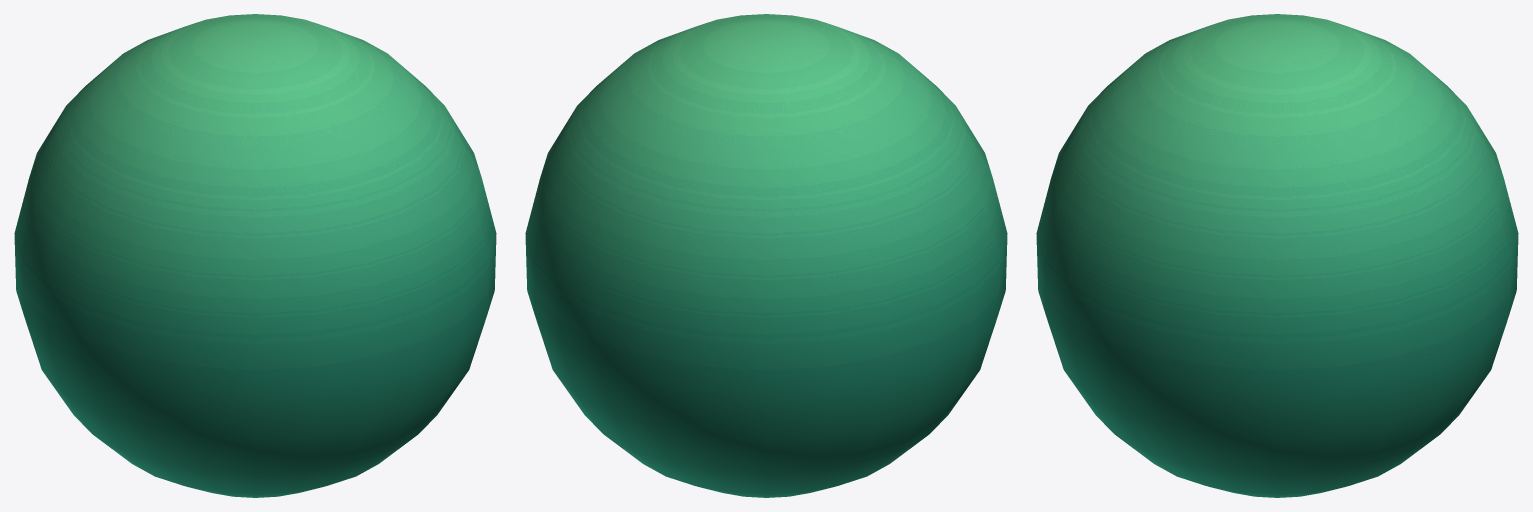
File: ball-green.glb
The picture shows the model from 3 angles, left to right: view 1: azimuth 30°, elevation 25°; view 2: azimuth 150°, elevation 25°; view 3: azimuth 270°, elevation 25°; orthographic projection.
Parts seen in each view (by area): view 1: ball-green; view 2: ball-green; view 3: ball-green.
Boxes of the visible parts, bbox=[...] form: ball-green: bbox=[14, 14, 496, 497]; ball-green: bbox=[525, 14, 1007, 497]; ball-green: bbox=[1036, 14, 1518, 497].
Bounding box in the file's own units: 0.0699 × 0.0697 × 0.0699.
1 material, 1 textured.
